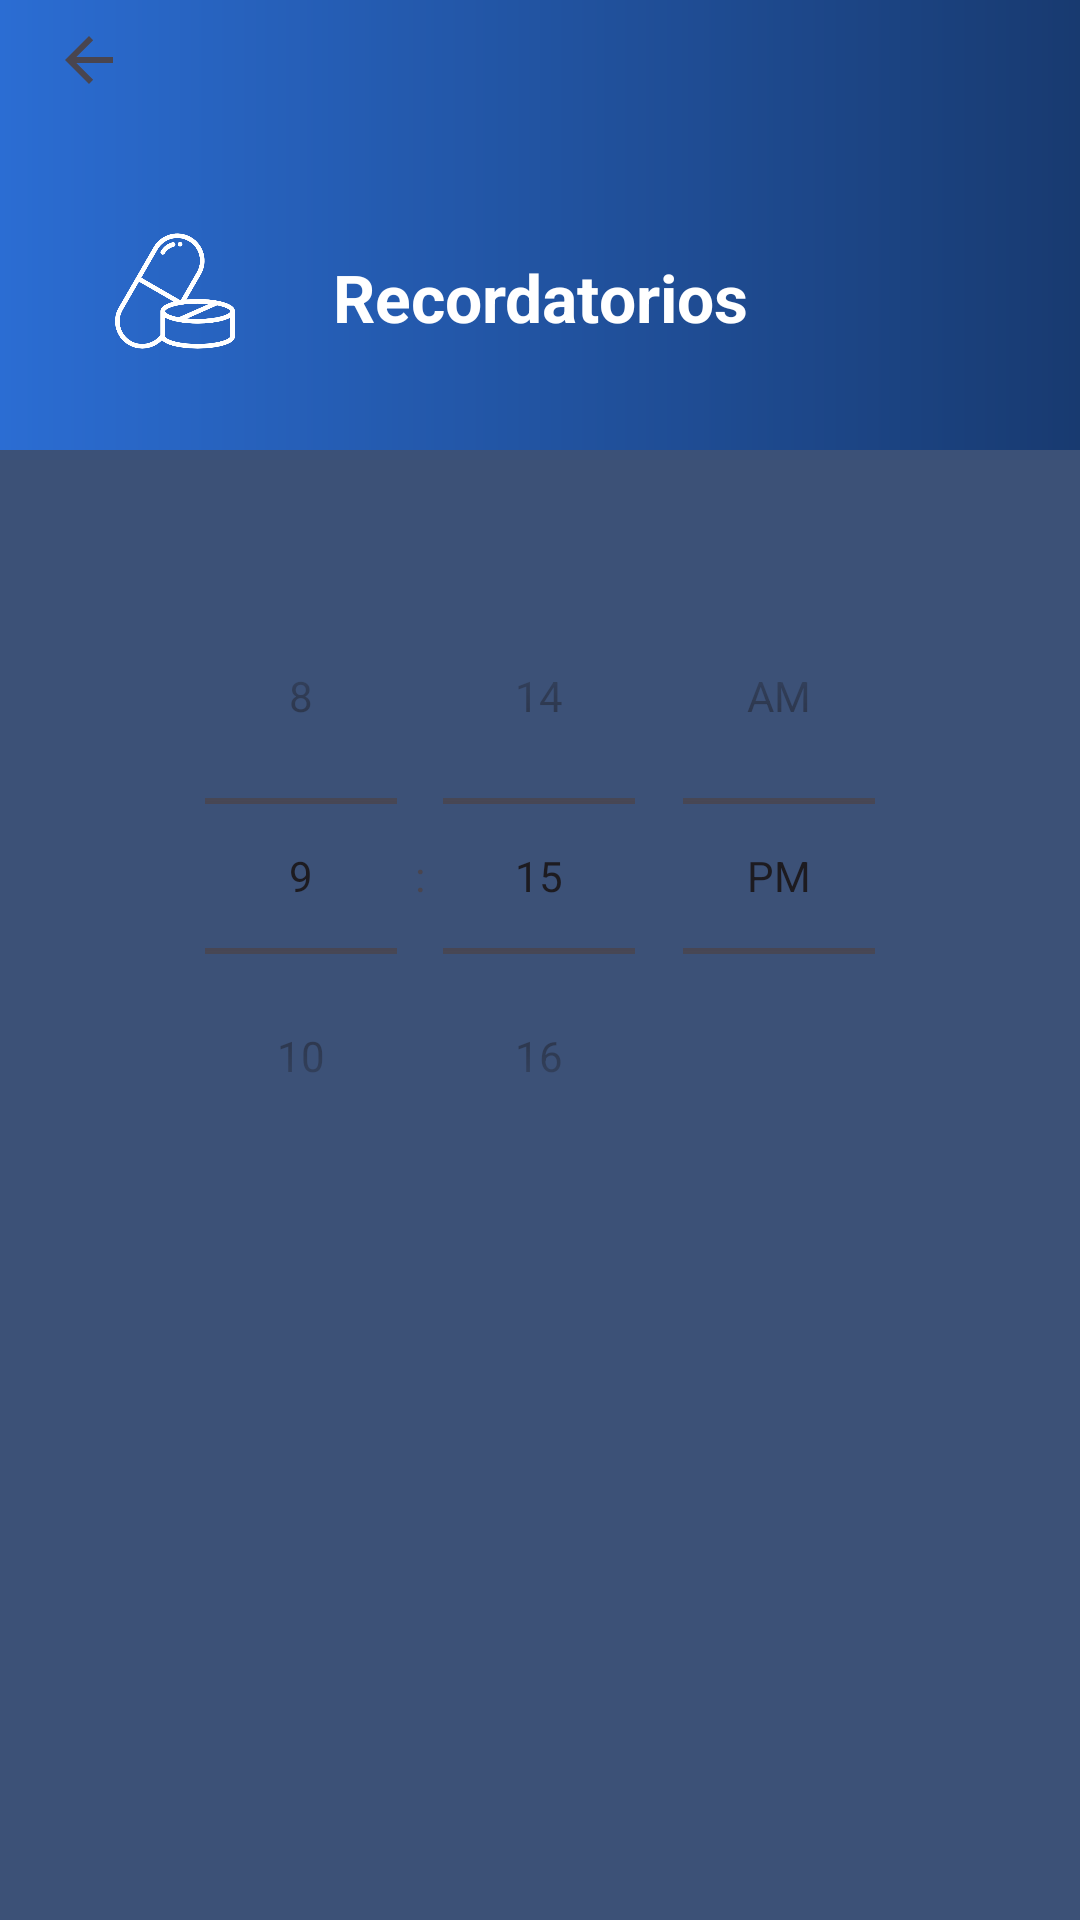

Screen size 1080×1920. Icon name, then its box in pixels as bbox(x1, y1, x2, y2):
medicamento: bbox(115, 233, 235, 349)
